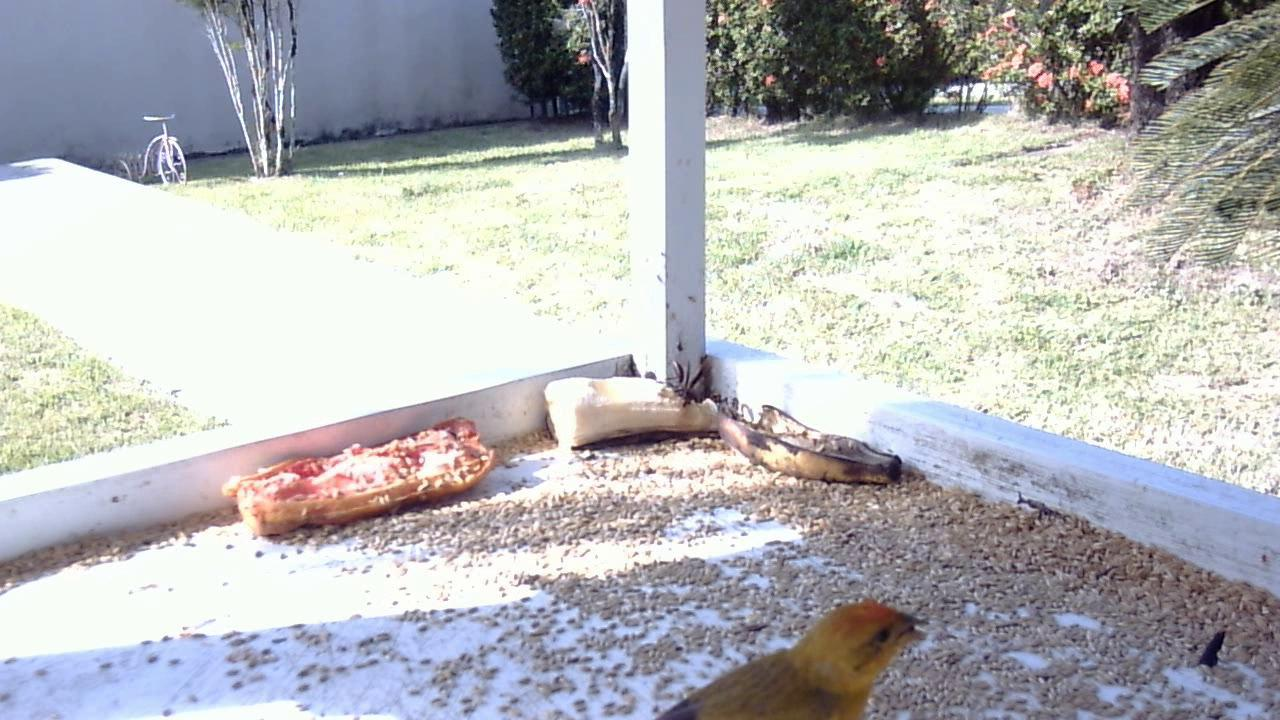canario_do_amazonas: (655, 597, 930, 716)
